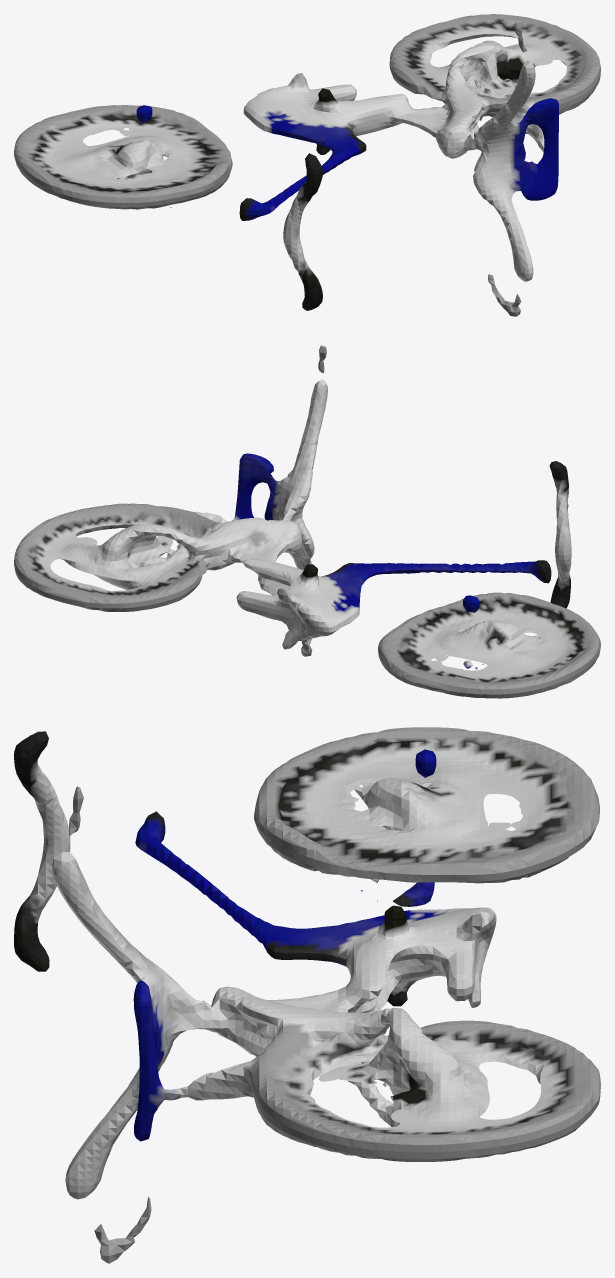
The model's file is cycle.glb.
The picture shows the model from 3 angles, top to bottom: view 1: azimuth 30°, elevation 25°; view 2: azimuth 150°, elevation 25°; view 3: azimuth 270°, elevation 25°; orthographic projection. The views are drawn at different scales.
Parts seen in each view (by area): view 1: mesh.ply; view 2: mesh.ply; view 3: mesh.ply.
Part boxes in pixels (bbox=[...]): mesh.ply: bbox=[14, 14, 600, 316]; mesh.ply: bbox=[14, 345, 600, 698]; mesh.ply: bbox=[14, 727, 600, 1263].
Size of the model in its own units: 1 by 0.5272 by 0.597.
